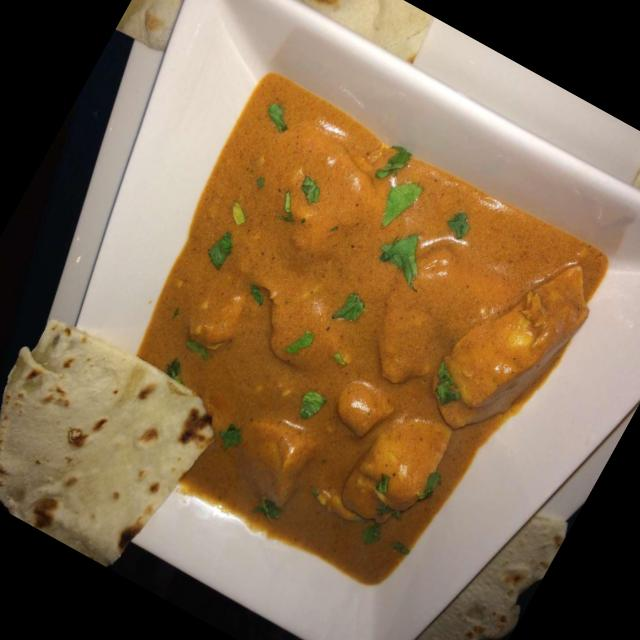chicken: (140, 94, 598, 544)
roti: (0, 323, 216, 556)
